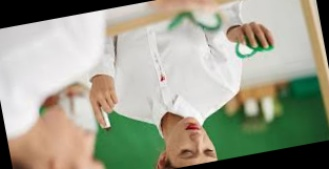lipstick: (158, 66, 168, 84)
